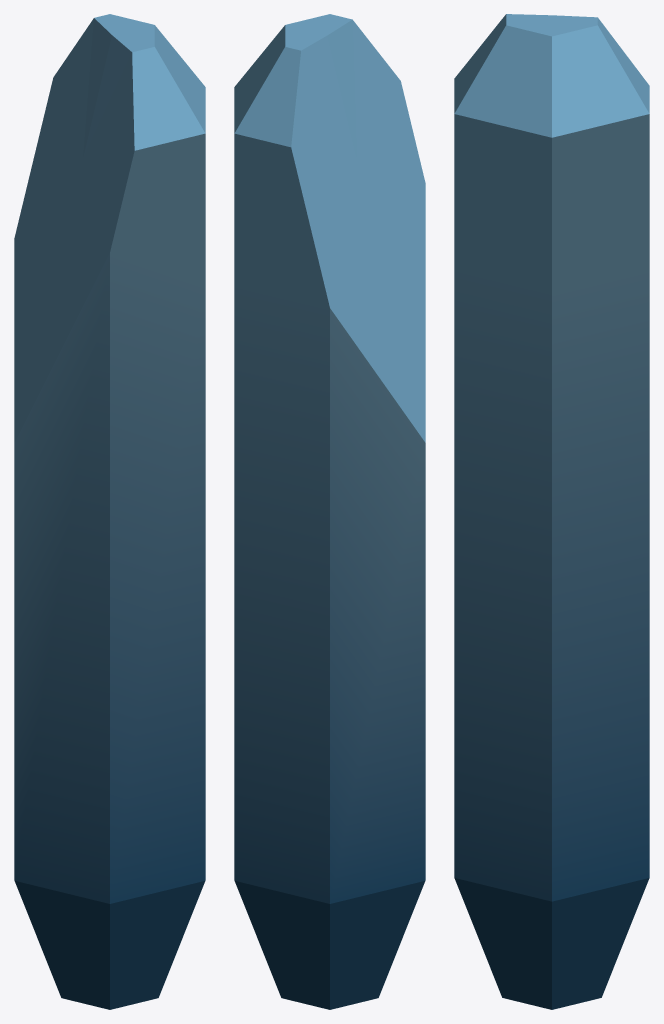
Rendered from geology-crystals-icecrystal_v7.fbx.
3 views of the same model, side by side, from view 1: azimuth 30°, elevation 25°; view 2: azimuth 150°, elevation 25°; view 3: azimuth 270°, elevation 25° (orthographic). The views are drawn at different scales.
Parts seen in each view (by area): view 1: IceCrystal_v7; view 2: IceCrystal_v7; view 3: IceCrystal_v7.
Boxes of the visible parts, x1=… form: IceCrystal_v7: x1=14, y1=14, x2=205, y2=1009; IceCrystal_v7: x1=234, y1=14, x2=425, y2=1009; IceCrystal_v7: x1=454, y1=14, x2=649, y2=1009.
Size of the model in its own units: 1.48 by 7.04 by 1.28.
